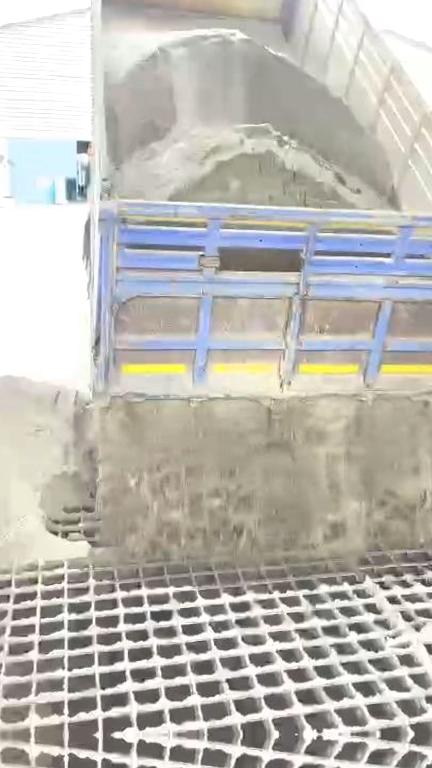sand: (0, 377, 432, 560), (100, 8, 388, 212)
